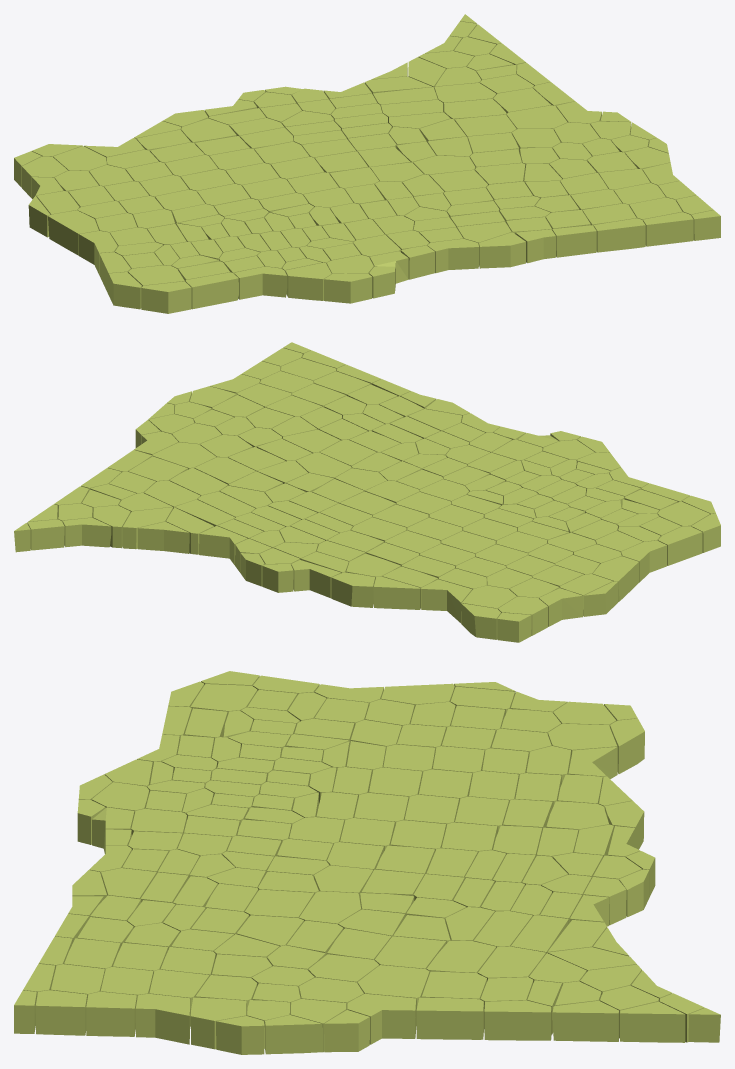
File: Islands2.001_fog.fbx
3 views of the same model, one above another, from view 1: azimuth 30°, elevation 25°; view 2: azimuth 150°, elevation 25°; view 3: azimuth 270°, elevation 25° (orthographic). The views are drawn at different scales.
Visible parts, largest first — view 1: Island2.001_fog_cell.046, Island2.001_fog_cell.121, Island2.001_fog_cell.054, Island2.001_fog_cell.135, Island2.001_fog_cell.109, Island2.001_fog_cell.064, Island2.001_fog_cell.095, Island2.001_fog_cell.076, Island2.001_fog_cell.092, Island2.001_fog_cell.028, Island2.001_fog_cell.038, Island2.001_fog_cell (+126 smaller); view 2: Island2.001_fog_cell.194, Island2.001_fog_cell.149, Island2.001_fog_cell.026, Island2.001_fog_cell.112, Island2.001_fog_cell.100, Island2.001_fog_cell.104, Island2.001_fog_cell.077, Island2.001_fog_cell.127, Island2.001_fog_cell.095, Island2.001_fog_cell.078, Island2.001_fog_cell.079, Island2.001_fog_cell.155 (+120 smaller); view 3: Island2.001_fog_cell.098, Island2.001_fog_cell.152, Island2.001_fog_cell.183, Island2.001_fog_cell.170, Island2.001_fog_cell.130, Island2.001_fog_cell.197, Island2.001_fog_cell.138, Island2.001_fog_cell.178, Island2.001_fog_cell.139, Island2.001_fog_cell, Island2.001_fog_cell.136, Island2.001_fog_cell.126 (+162 smaller).
Boxes of the visible parts, x1,y1,x2,y2 form: Island2.001_fog_cell.046: (593,218,645,252); Island2.001_fog_cell.121: (185,272,238,309); Island2.001_fog_cell.054: (141,281,191,313); Island2.001_fog_cell.135: (643,212,693,246); Island2.001_fog_cell.109: (233,266,287,299); Island2.001_fog_cell.064: (479,232,525,268); Island2.001_fog_cell.095: (48,210,98,255); Island2.001_fog_cell.076: (324,273,372,303); Island2.001_fog_cell.092: (427,238,478,273); Island2.001_fog_cell.028: (285,262,331,300); Island2.001_fog_cell.038: (552,225,596,257); Island2.001_fog_cell: (506,105,567,129); Island2.001_fog_cell.194: (138,521,189,553); Island2.001_fog_cell.149: (421,579,472,623); Island2.001_fog_cell.026: (331,572,375,607); Island2.001_fog_cell.112: (373,576,420,609); Island2.001_fog_cell.100: (62,517,111,547); Island2.001_fog_cell.104: (658,526,702,565); Island2.001_fog_cell.077: (291,560,341,598); Island2.001_fog_cell.127: (461,603,500,639); Island2.001_fog_cell.095: (593,556,638,601); Island2.001_fog_cell.078: (199,526,247,565); Island2.001_fog_cell.079: (539,588,583,626); Island2.001_fog_cell.155: (621,540,666,582); Island2.001_fog_cell.098: (416,997,483,1039); Island2.001_fog_cell.152: (484,1000,551,1040); Island2.001_fog_cell.183: (552,1000,618,1041); Island2.001_fog_cell.170: (135,993,189,1044); Island2.001_fog_cell.130: (347,993,416,1044); Island2.001_fog_cell.197: (620,1001,685,1042); Island2.001_fog_cell.138: (35,990,87,1035); Island2.001_fog_cell.178: (86,991,136,1036); Island2.001_fog_cell.139: (265,1015,322,1054); Island2.001_fog_cell: (357,965,429,1025); Island2.001_fog_cell.136: (190,997,246,1049); Island2.001_fog_cell.126: (216,1016,264,1054).
Bounding box in the file's own units: 134 × 5.05 × 113.
